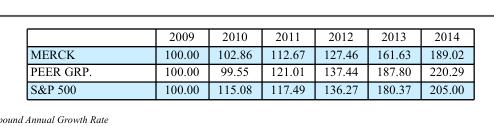table: (29, 28, 463, 95)
table column: (29, 28, 127, 95), (127, 28, 207, 95), (207, 28, 260, 95), (260, 28, 313, 95), (313, 28, 366, 95), (366, 28, 419, 95), (419, 28, 463, 95)
table column header: (29, 28, 463, 44)
table row: (29, 44, 463, 62), (29, 62, 463, 79), (29, 28, 463, 44), (29, 79, 463, 95)
